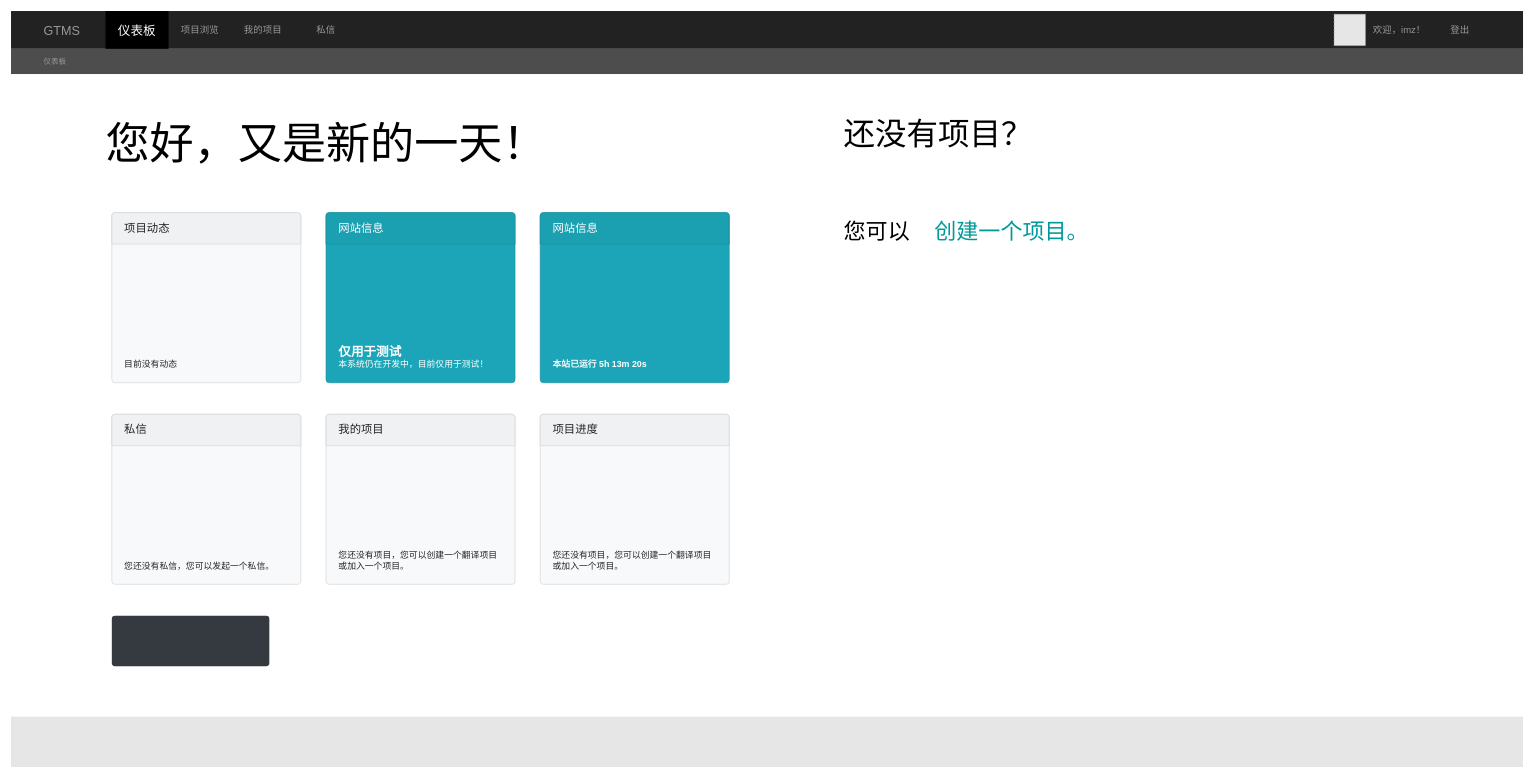
Some shapes in this 1533 by 777 pixel diagram are drawn without their labels. Grey dashed boxes stand in for pictures. Each missing label, with the box of its shape:
Yifan Xu 毕业设计 @天津工业大学: (11, 716, 1523, 767)
管理仪表板: (112, 616, 269, 666)
